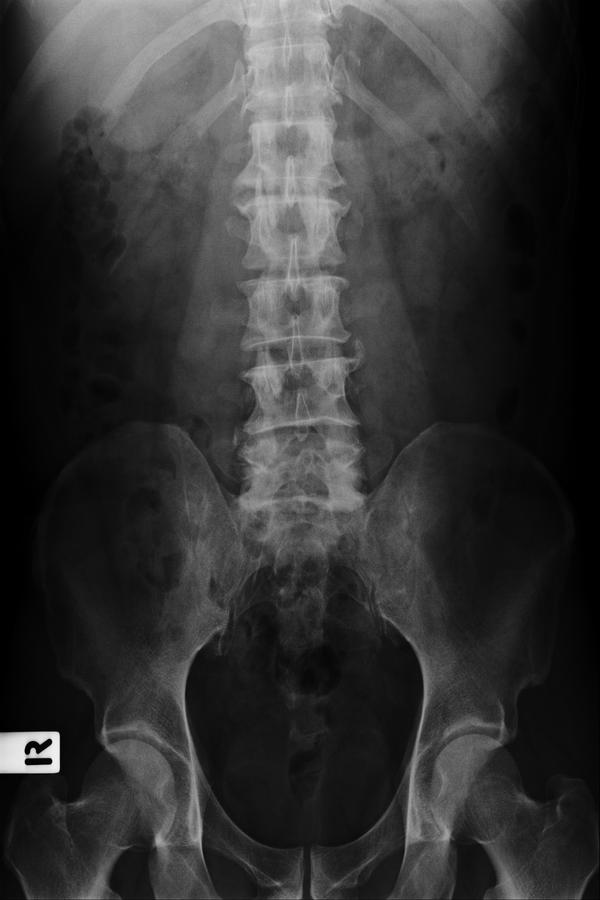lumbar scoliosis: (231, 173, 375, 561)
